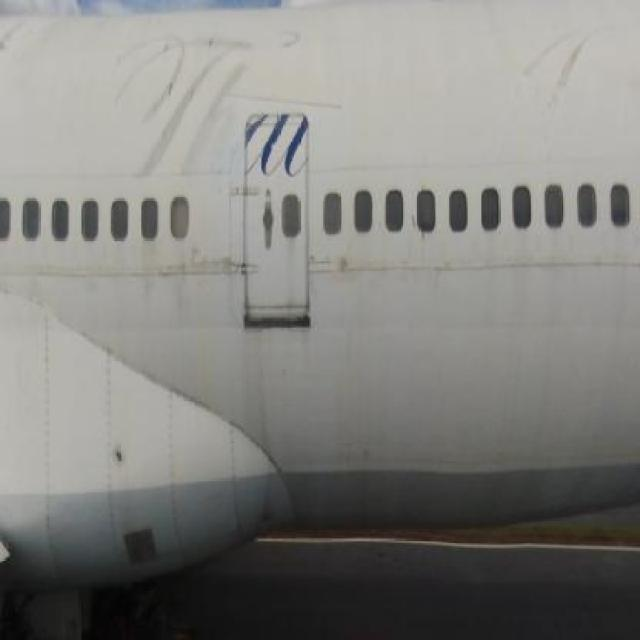Scartch: (119, 33, 250, 178), (515, 23, 610, 125), (324, 246, 402, 279), (172, 255, 260, 280)
